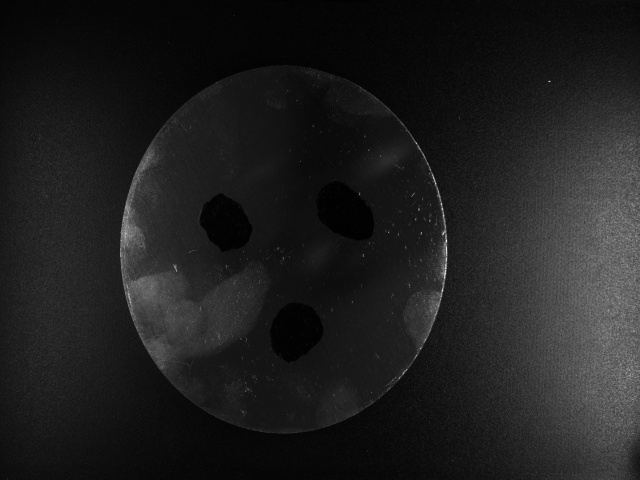zang_wu: (273, 295, 329, 365), (198, 191, 255, 255), (322, 188, 380, 244)
